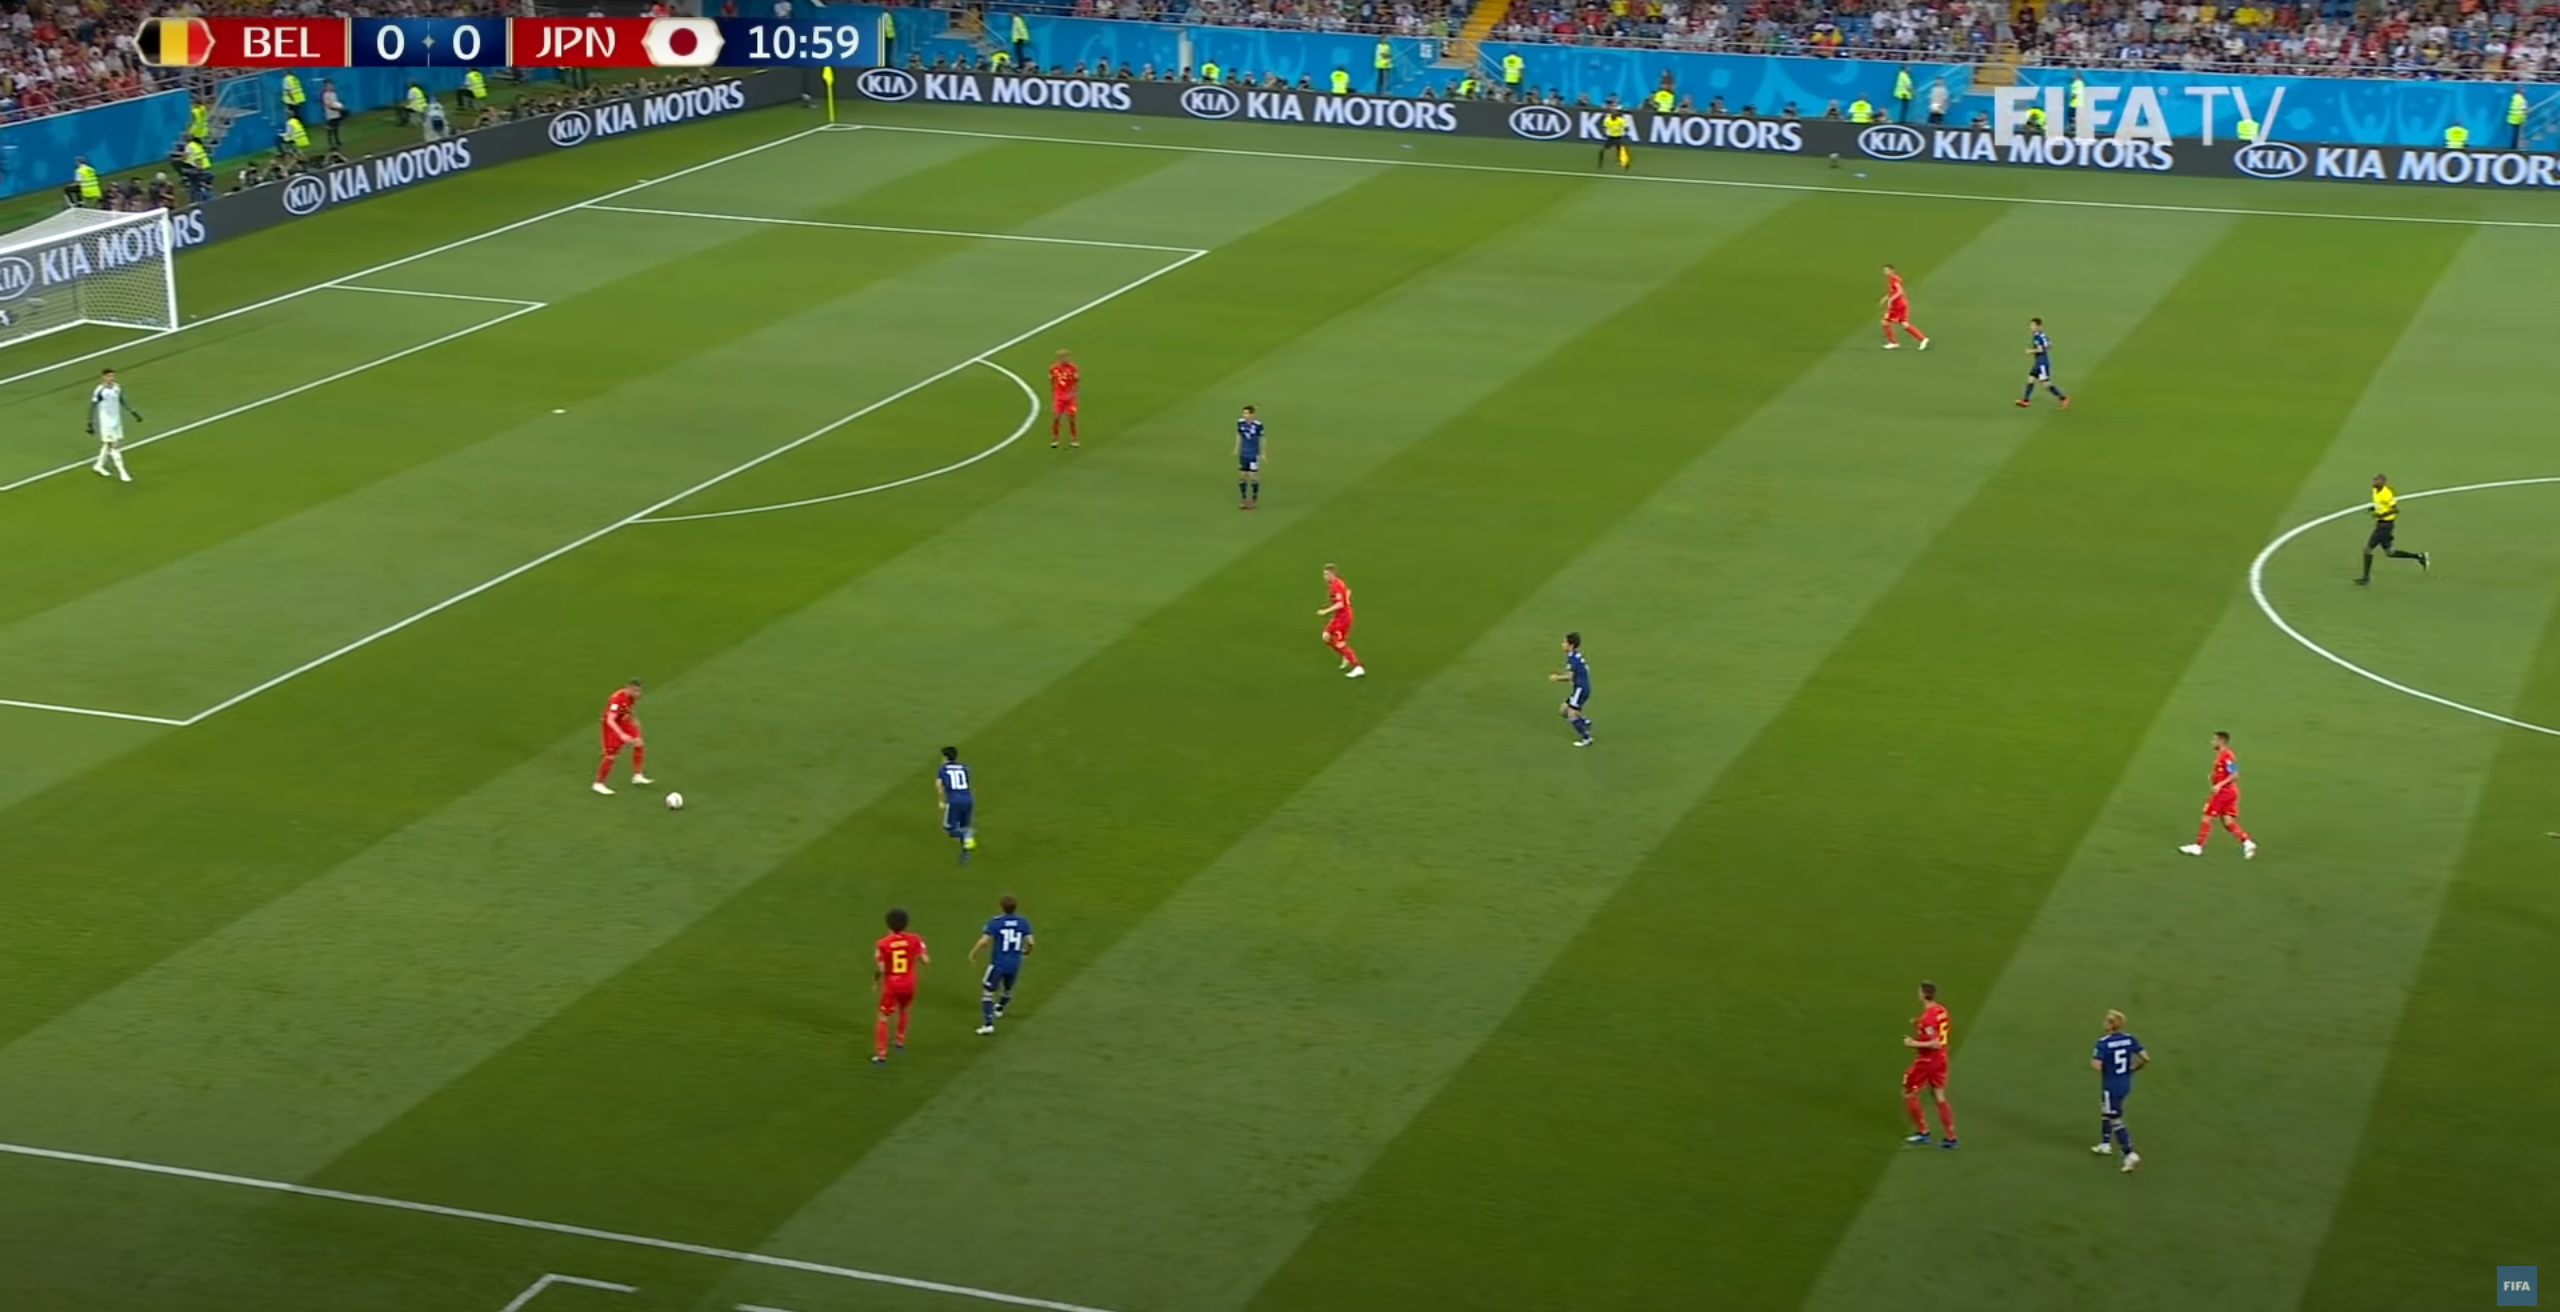Ball: (663, 790, 684, 812)
Goalie: (87, 368, 142, 484)
Referee: (2354, 474, 2431, 587), (1595, 109, 1631, 172)
Team A: (2179, 731, 2257, 862), (1902, 981, 1961, 1151), (872, 910, 930, 1063), (592, 679, 654, 797), (1318, 564, 1365, 678), (1877, 263, 1931, 351), (1047, 346, 1083, 450)
Team B: (2090, 1009, 2152, 1176), (967, 895, 1036, 1038), (1549, 633, 1596, 750), (2015, 320, 2071, 412), (939, 745, 979, 858), (1230, 403, 1268, 519)
